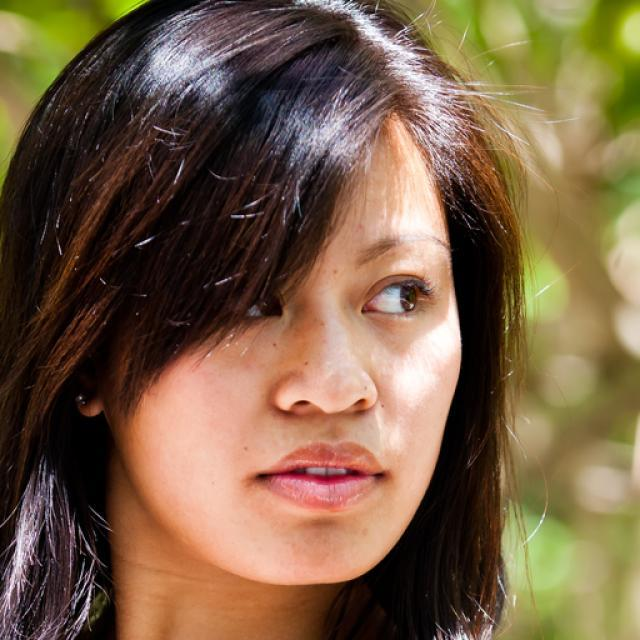neutral: (100, 108, 462, 584)
